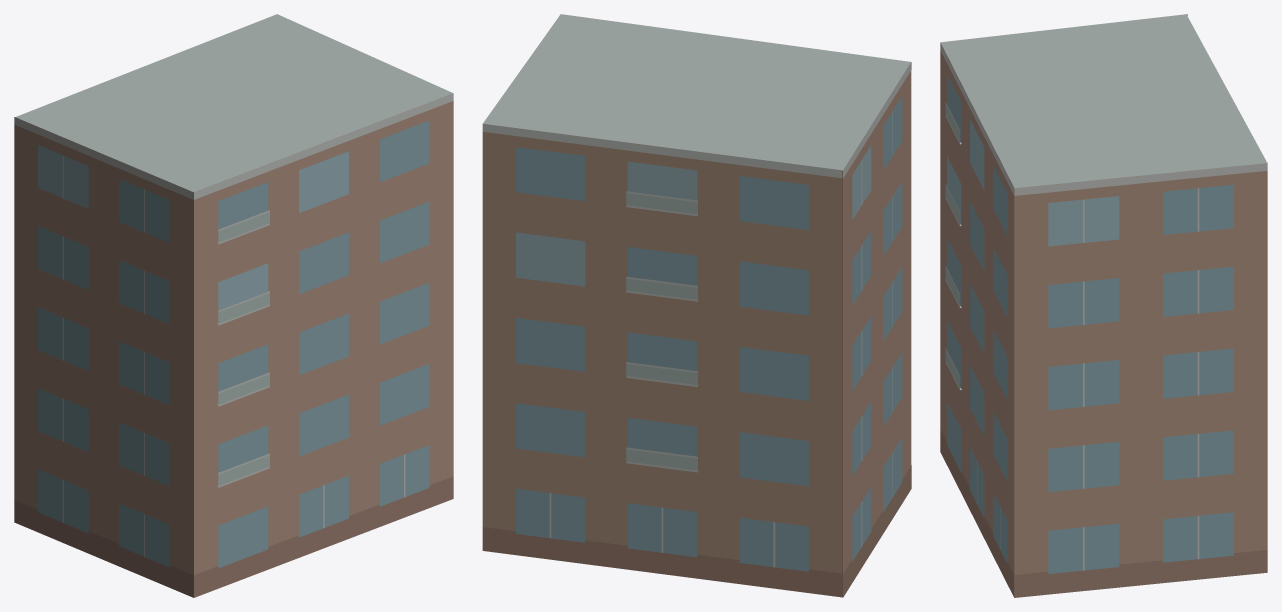
The model's file is survey-upis-32611147.glb.
3 renders of one model, left to right at view 1: azimuth 30°, elevation 25°; view 2: azimuth 150°, elevation 25°; view 3: azimuth 270°, elevation 25°, orthographic. The views are drawn at different scales.
Visible parts, largest first — view 1: survey-upis-32611147.tmp; view 2: survey-upis-32611147.tmp; view 3: survey-upis-32611147.tmp.
Boxes of the visible parts, x1=… form: survey-upis-32611147.tmp: x1=14, y1=14, x2=453, y2=597; survey-upis-32611147.tmp: x1=482, y1=14, x2=911, y2=597; survey-upis-32611147.tmp: x1=940, y1=14, x2=1267, y2=597.
Bounding box in the file's own units: 11.87 × 13 × 9.42.
